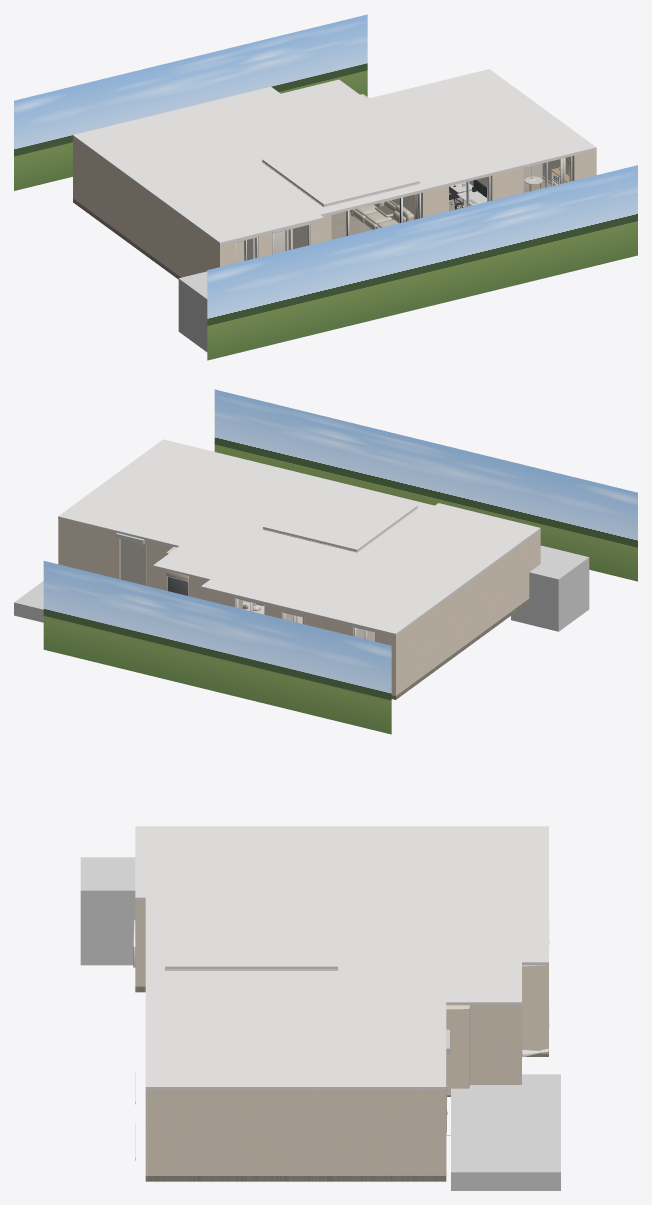
The model's file is house.glb.
The picture shows the model from 3 angles, top to bottom: view 1: azimuth 30°, elevation 25°; view 2: azimuth 150°, elevation 25°; view 3: azimuth 270°, elevation 25°; orthographic projection. The views are drawn at different scales.
Visible parts, largest first — view 1: Ceiling_Slab, Q2_Landscape_South, Q2_Landscape_North, ExactWall_13, Ceiling_Coffer, Cube, Exact_Floor, ExactWall_3, ExactWall_5, ExactWall_4; view 2: Ceiling_Slab, Q2_Landscape_North, Q2_Landscape_South, ExactWall_13, Ceiling_Coffer, Cube, ExactWall_5, Q12_Entry_Leaf, ExactWall_7, Void_Elevator_Hall_Cutter, ExactWall_11, ExactWall_8 (+1 smaller); view 3: Ceiling_Slab, ExactWall_5, Void_Elevator_Hall_Cutter, Ceiling_Coffer, ExactWall_7, Cube, ExactWall_8, Exact_Floor, ExactWall_4.
Part boxes in pixels (x1=…): Ceiling_Slab: x1=73, y1=69, x2=596, y2=244; Q2_Landscape_South: x1=207, y1=165, x2=637, y2=360; Q2_Landscape_North: x1=14, y1=14, x2=367, y2=190; ExactWall_13: x1=73, y1=137, x2=248, y2=277; Ceiling_Coffer: x1=262, y1=136, x2=419, y2=206; Cube: x1=178, y1=271, x2=207, y2=351; Exact_Floor: x1=73, y1=179, x2=551, y2=279; ExactWall_3: x1=391, y1=185, x2=448, y2=219; ExactWall_5: x1=542, y1=149, x2=596, y2=181; ExactWall_4: x1=287, y1=214, x2=331, y2=250; Ceiling_Slab: x1=58, y1=439, x2=540, y2=635; Q2_Landscape_North: x1=43, y1=561, x2=391, y2=734; Q2_Landscape_South: x1=214, y1=389, x2=637, y2=581; ExactWall_13: x1=375, y1=530, x2=540, y2=695; Ceiling_Coffer: x1=263, y1=482, x2=417, y2=551; Cube: x1=511, y1=545, x2=589, y2=631; ExactWall_5: x1=58, y1=518, x2=118, y2=578; Q12_Entry_Leaf: x1=120, y1=539, x2=145, y2=585; ExactWall_7: x1=146, y1=540, x2=176, y2=590; Void_Elevator_Hall_Cutter: x1=14, y1=581, x2=43, y2=622; ExactWall_11: x1=304, y1=613, x2=374, y2=641; ExactWall_8: x1=189, y1=576, x2=264, y2=607; Ceiling_Slab: x1=135, y1=826, x2=548, y2=1089; ExactWall_5: x1=145, y1=1090, x2=446, y2=1175; Void_Elevator_Hall_Cutter: x1=451, y1=1074, x2=560, y2=1190; Ceiling_Coffer: x1=165, y1=901, x2=337, y2=969; ExactWall_7: x1=446, y1=1005, x2=521, y2=1092; Cube: x1=80, y1=857, x2=135, y2=965; ExactWall_8: x1=522, y1=965, x2=548, y2=1051; Exact_Floor: x1=135, y1=986, x2=548, y2=1181; ExactWall_4: x1=135, y1=900, x2=145, y2=986.
Size of what is drawn, in the model's own units: 17.31 by 4.05 by 15.13.
171 materials, 20 textured.
